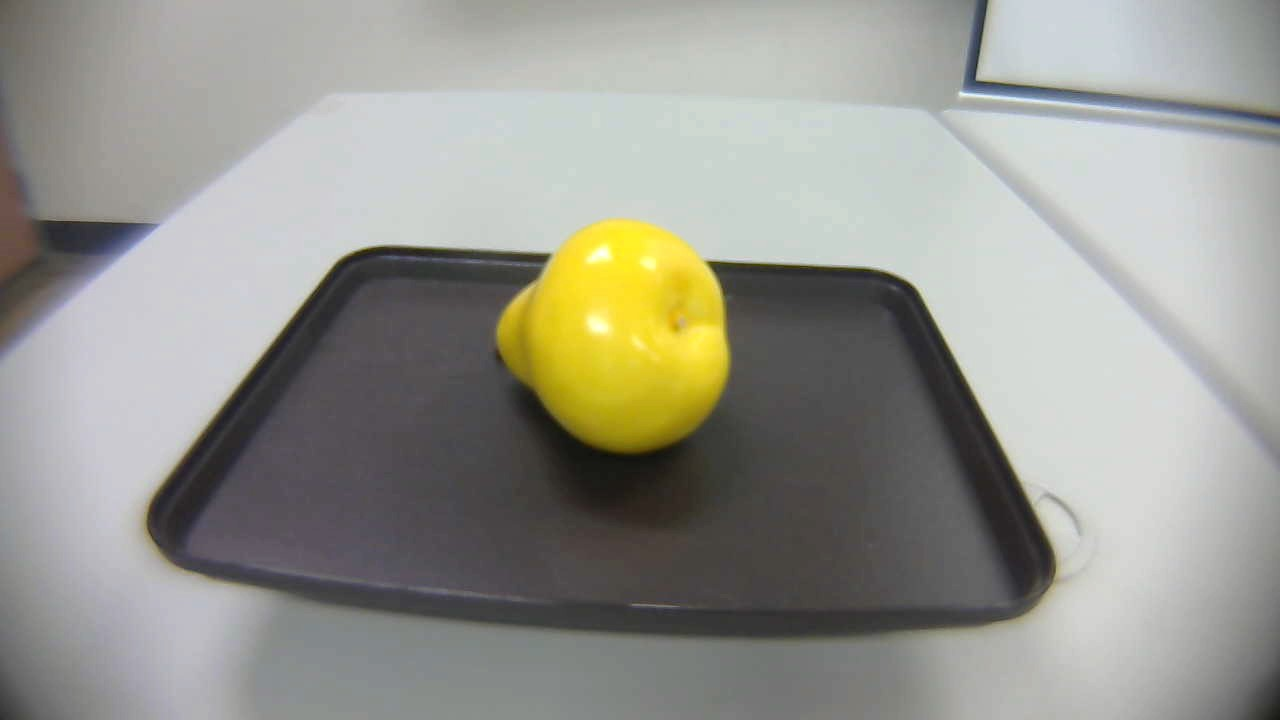yellow pear: (486, 216, 734, 458)
